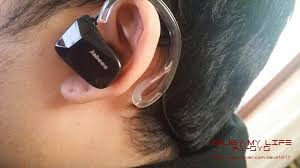earphone: (54, 1, 161, 104)
